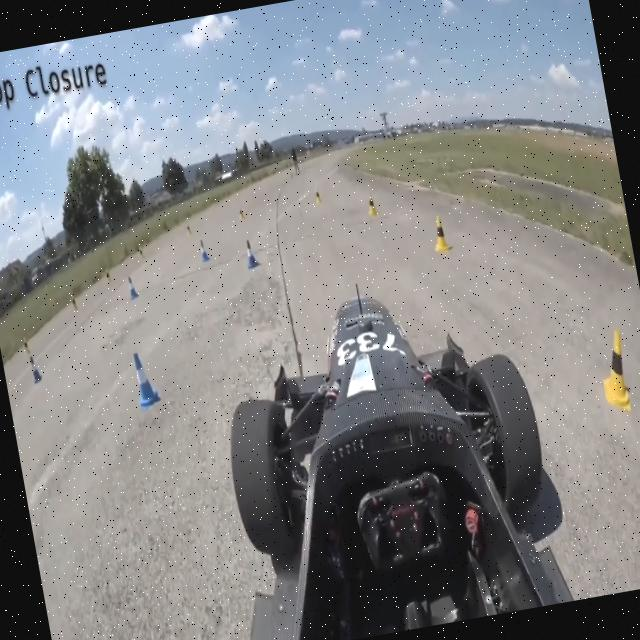blue_cone: (128, 348, 164, 414), (242, 237, 260, 271), (28, 354, 44, 384), (124, 274, 140, 302), (197, 238, 211, 264)
yellow_cone: (590, 320, 638, 419), (428, 212, 452, 256), (365, 192, 379, 218), (314, 188, 322, 205)
